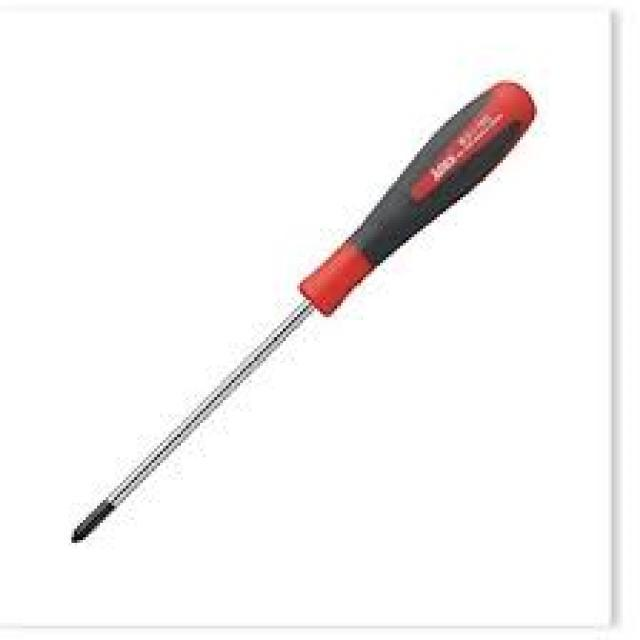screwdriver: (64, 79, 539, 548)
